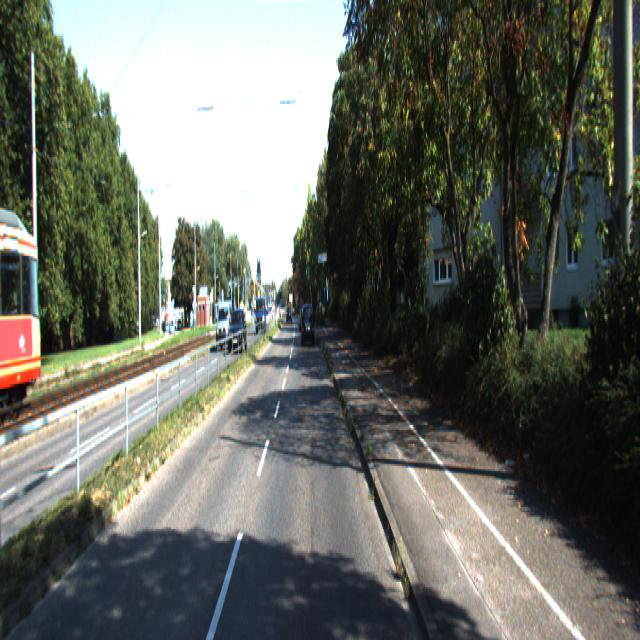Car: (228, 308, 248, 356), (216, 302, 234, 352), (302, 305, 315, 349), (255, 298, 267, 335)
